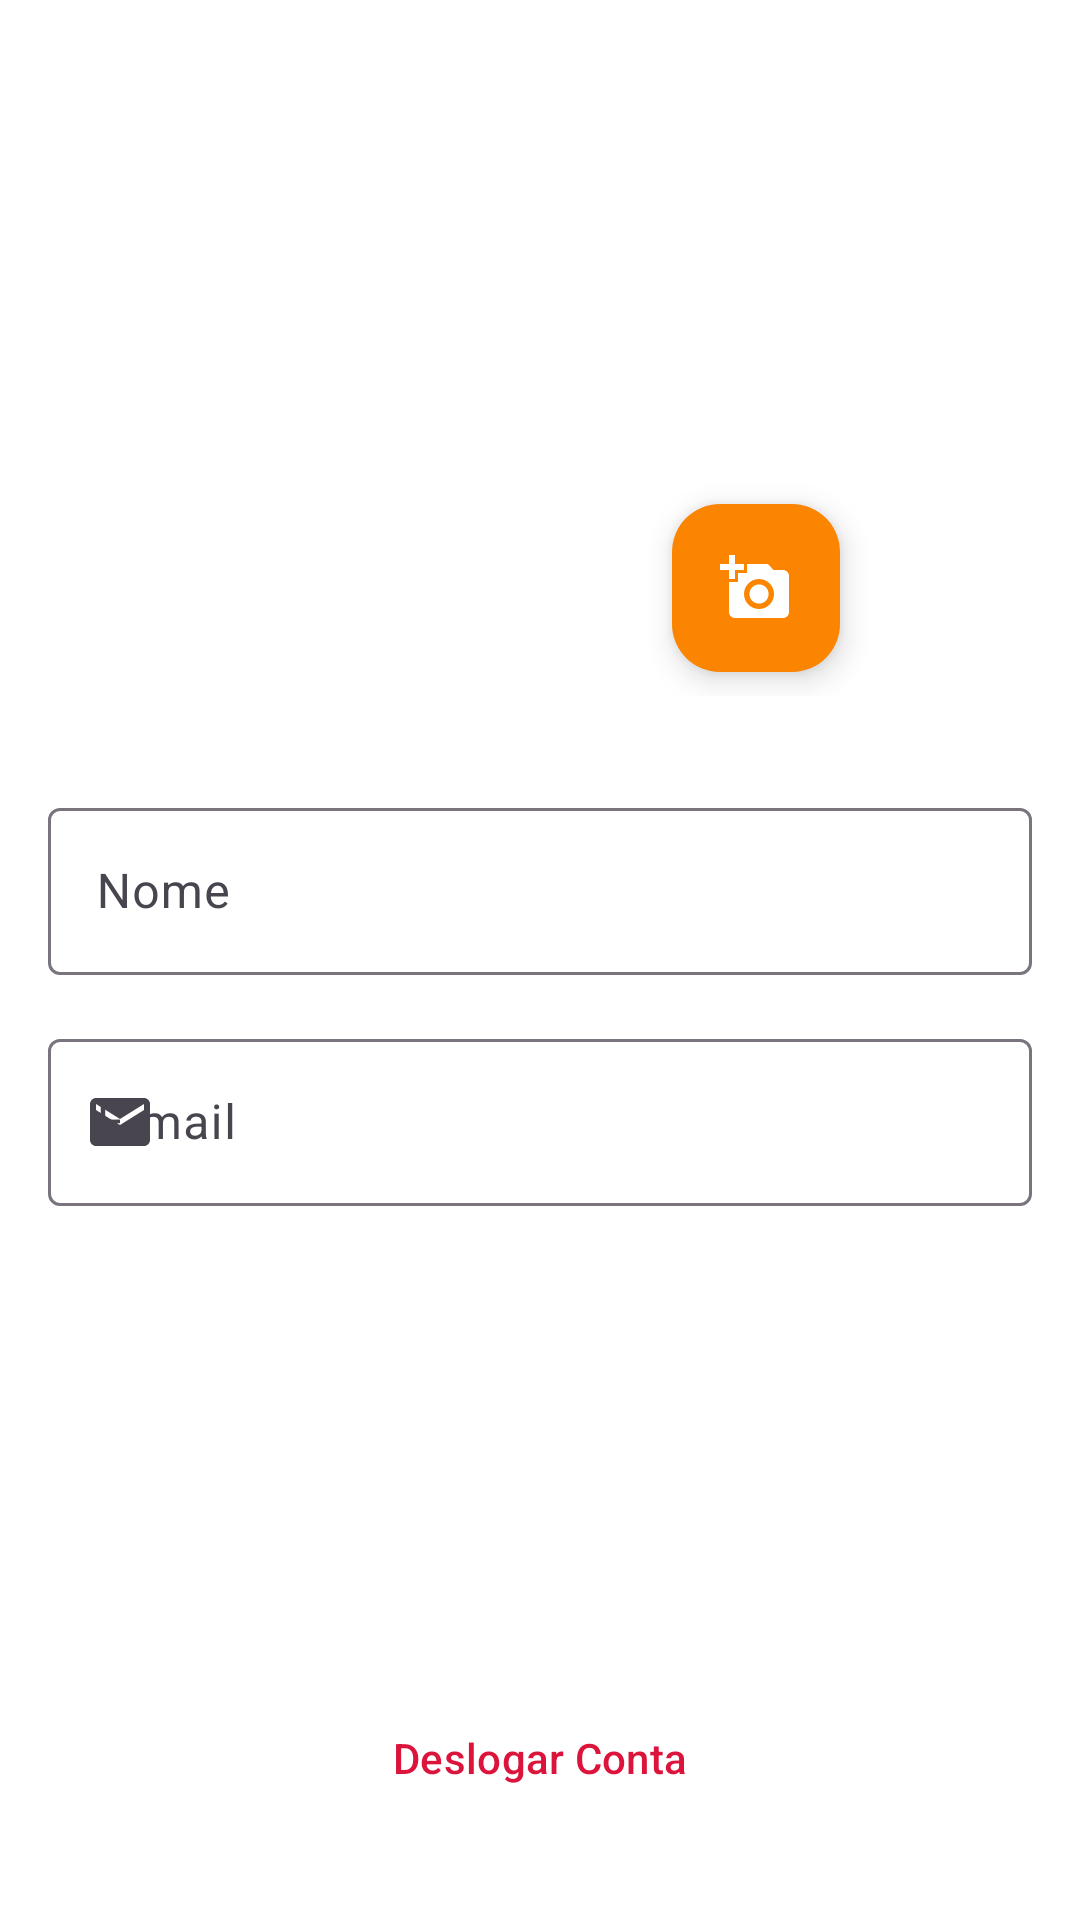

Icon click points for this 1080×1920 phone screenshot, format (x=x, y=y):
foto: (x=756, y=588)
